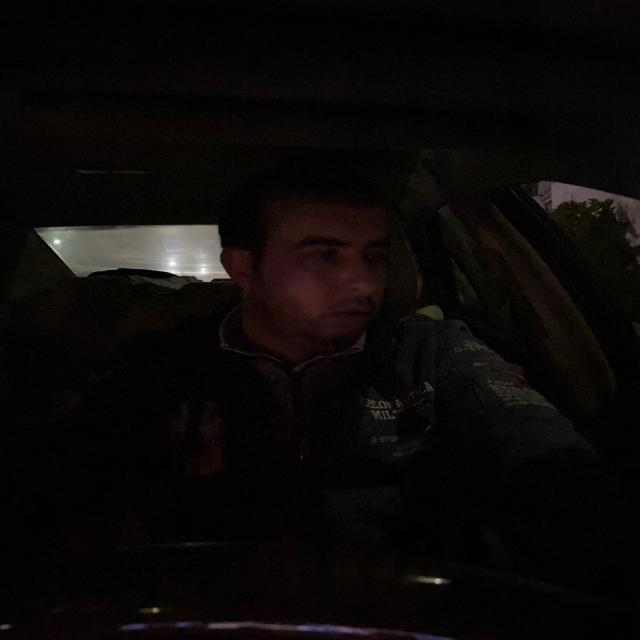LeftRight: (209, 161, 406, 348)
